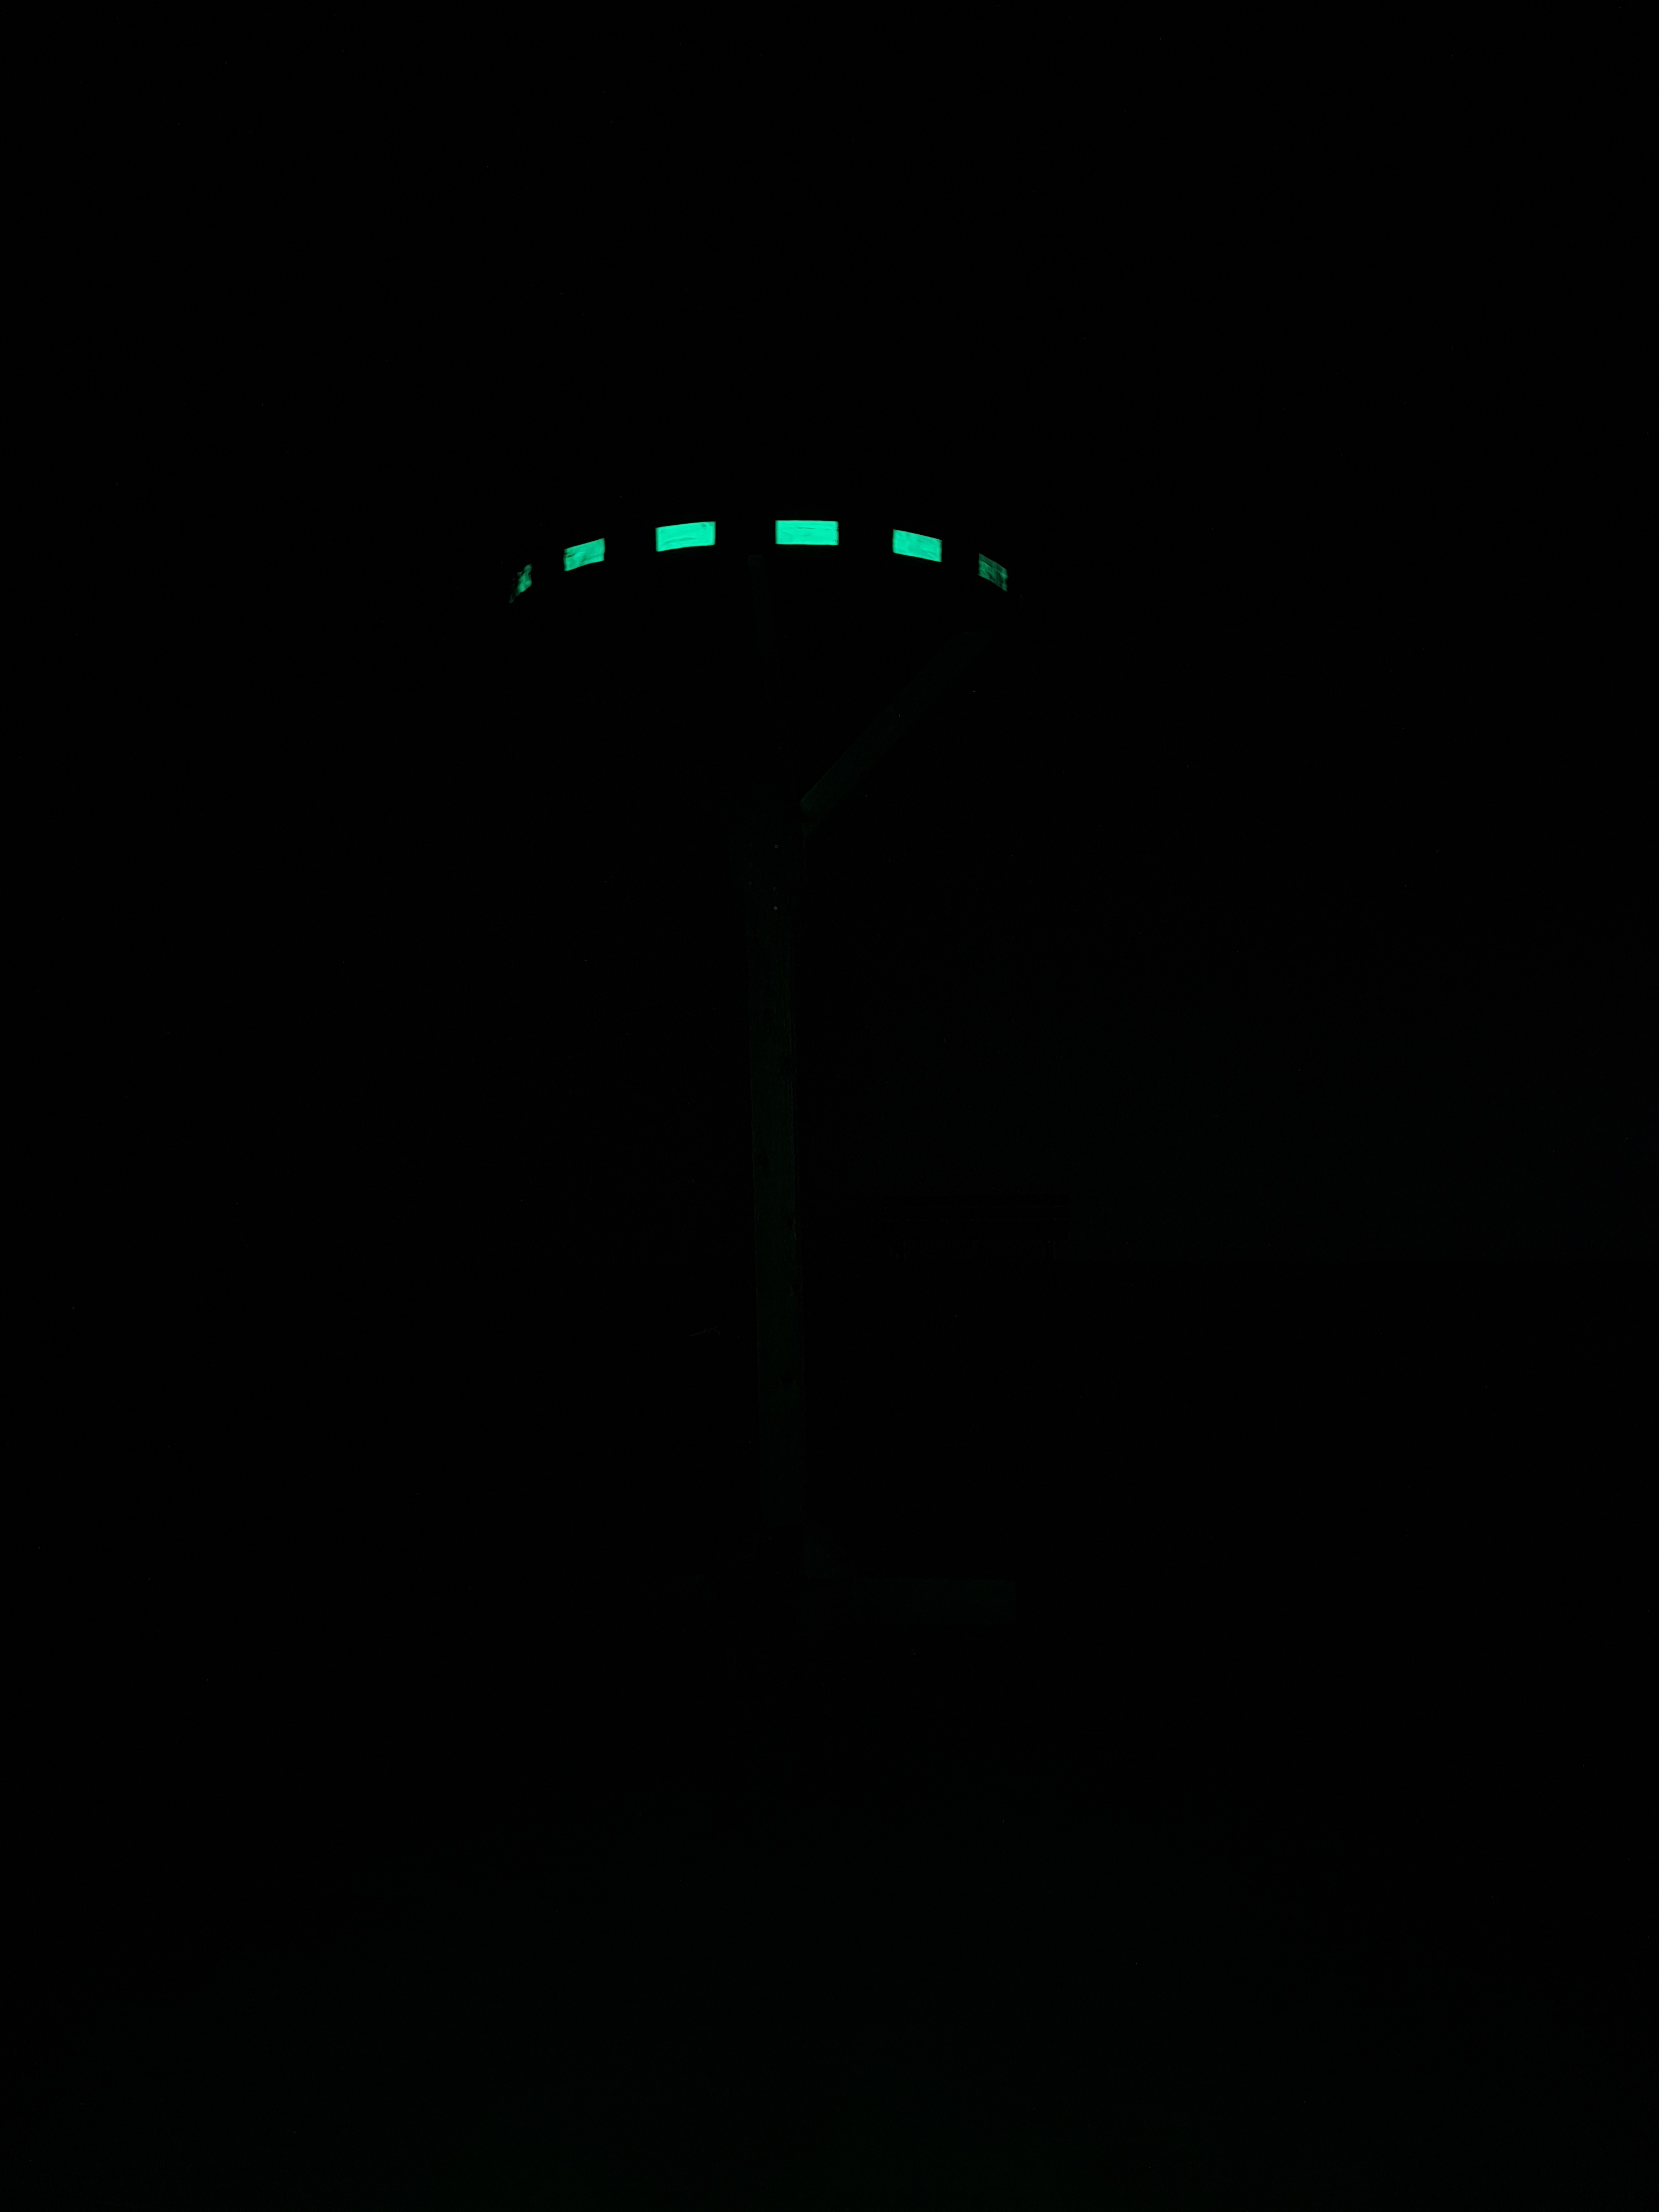hoop: (511, 514, 1025, 624)
